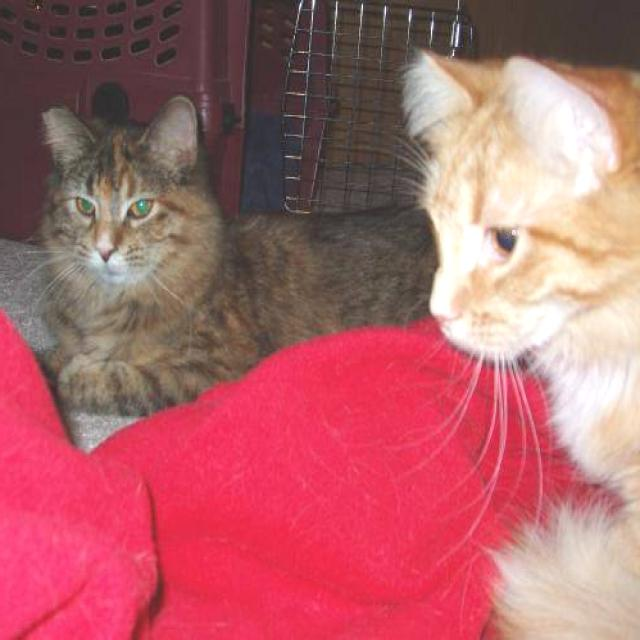Kucing: (335, 15, 640, 640), (20, 41, 265, 473)
